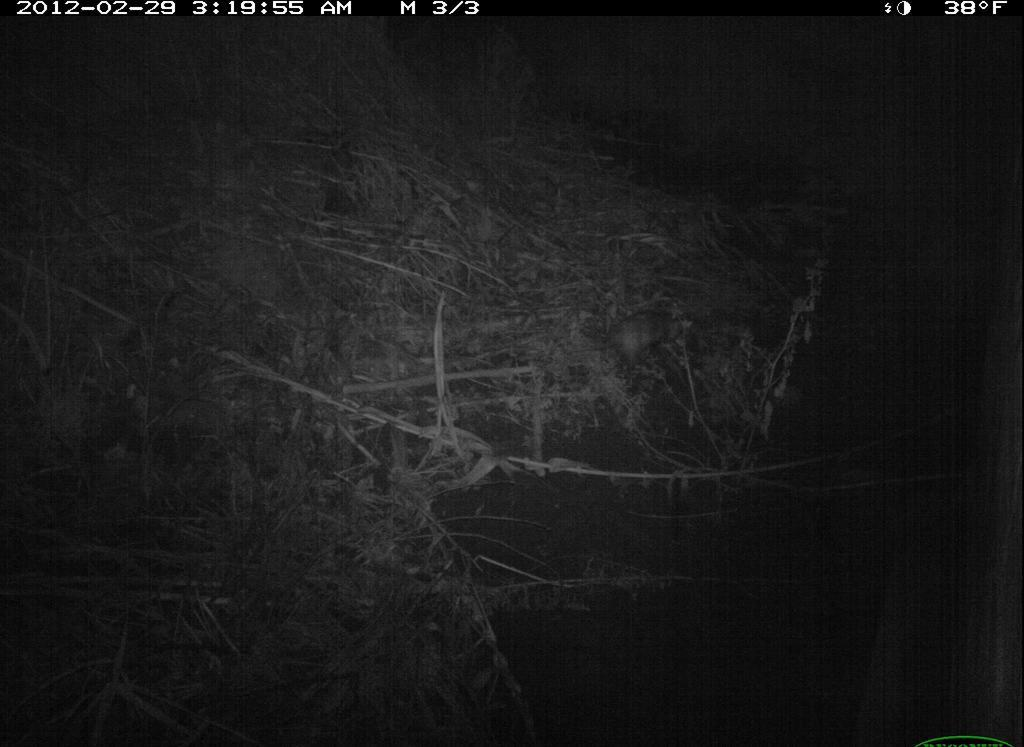opossum: (577, 297, 701, 382)
